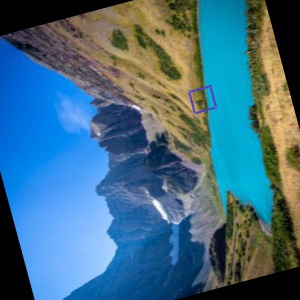square: (188, 84, 218, 115)
